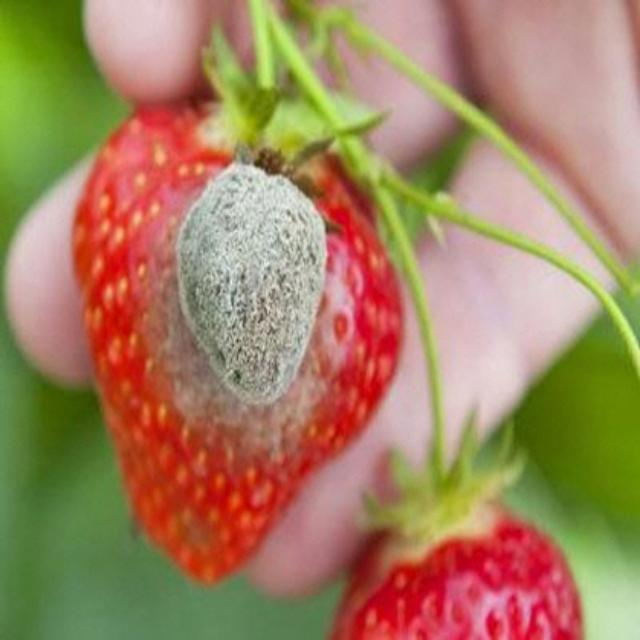Gray Mold: (134, 141, 359, 467)
